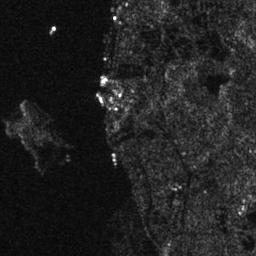ship: (110, 152, 118, 166), (49, 25, 57, 35)
